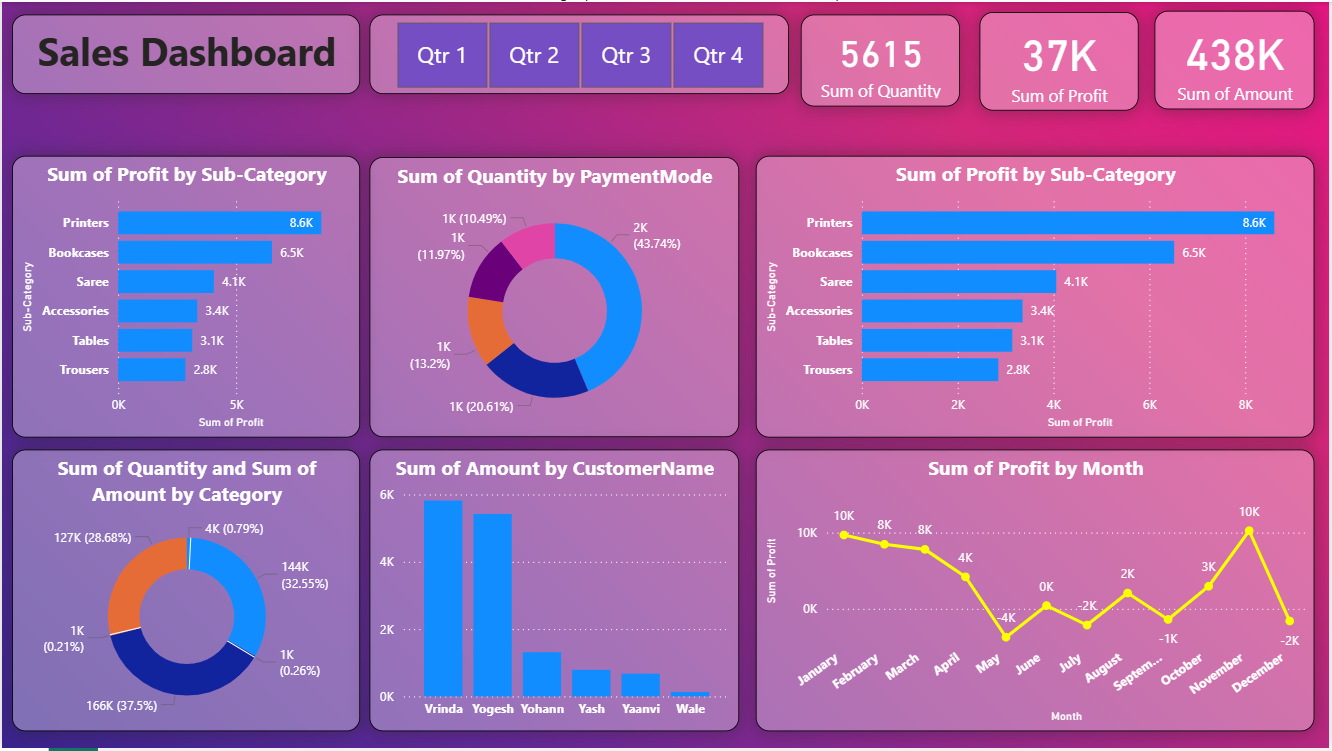

What the dashboard file says about the page in this screenshot:
{"tool":"powerbi","page":{"name":"Page 1","canvas":[1280,720],"ordinal":0},"visuals":[{"type":"textbox","box":[9.4,12.1,336.3,76.7],"z":0},{"type":"lineChart","fields":{"Category":["Orders.Order Date.Variation.Date Hierarchy.Month"],"Y":["Sum(Details.Profit)"]},"box":[727.7,431.8,539.4,271.7],"z":1000},{"type":"barChart","fields":{"Y":["Sum(Details.Profit)"],"Category":["Details.Sub-Category"]},"box":[727.7,148,539.4,271.7],"z":2000},{"type":"donutChart","fields":{"Y":["Sum(Details.Quantity)","Sum(Details.Amount)"],"Category":["Details.Category"]},"box":[9.4,431.8,336.3,271.7],"z":3000},{"type":"donutChart","fields":{"Y":["Sum(Details.Quantity)"],"Category":["Details.PaymentMode"]},"box":[355.1,149.3,356.5,270.4],"z":4000},{"type":"card","fields":{"Values":["Sum(Details.Amount)"]},"box":[1112.4,8.1,154.7,95.5],"z":5000},{"type":"card","fields":{"Values":["Sum(Details.Profit)"]},"box":[942.9,9.4,153.3,95.5],"z":6000},{"type":"card","fields":{"Values":["Sum(Details.Quantity)"]},"box":[770.7,12.1,153.3,88.8],"z":7000},{"type":"barChart","fields":{"Y":["Sum(Details.Profit)"],"Category":["Details.Sub-Category"]},"box":[9.4,148,336.3,271.7],"z":8000},{"type":"lineStackedColumnComboChart","fields":{"Category":["Orders.CustomerName"],"Y":["Sum(Details.Amount)"]},"box":[355.1,431.8,356.5,271.7],"z":9000},{"type":"slicer","fields":{"Values":["Orders.Order Date.Variation.Date Hierarchy.Quarter"]},"box":[355.1,12.1,404.9,76.7],"z":10000}]}

Visuals, with their boxes in screenshot pixels (x1, y1, x2, y2), scaled from the page's 1280x720 canvas onto the 1332x751 screenshot:
textbox: 10 13 360 93
lineChart - Orders.Order Date.Variation.Date Hierarchy.Month x Sum(Details.Profit): 757 450 1319 734
barChart - Sum(Details.Profit) x Details.Sub-Category: 757 154 1319 438
donutChart - Sum(Details.Quantity) x Sum(Details.Amount): 10 450 360 734
donutChart - Sum(Details.Quantity) x Details.PaymentMode: 370 156 741 438
card - Sum(Details.Amount): 1158 8 1319 108
card - Sum(Details.Profit): 981 10 1141 109
card - Sum(Details.Quantity): 802 13 962 105
barChart - Sum(Details.Profit) x Details.Sub-Category: 10 154 360 438
lineStackedColumnComboChart - Orders.CustomerName x Sum(Details.Amount): 370 450 741 734
slicer - Orders.Order Date.Variation.Date Hierarchy.Quarter: 370 13 791 93
